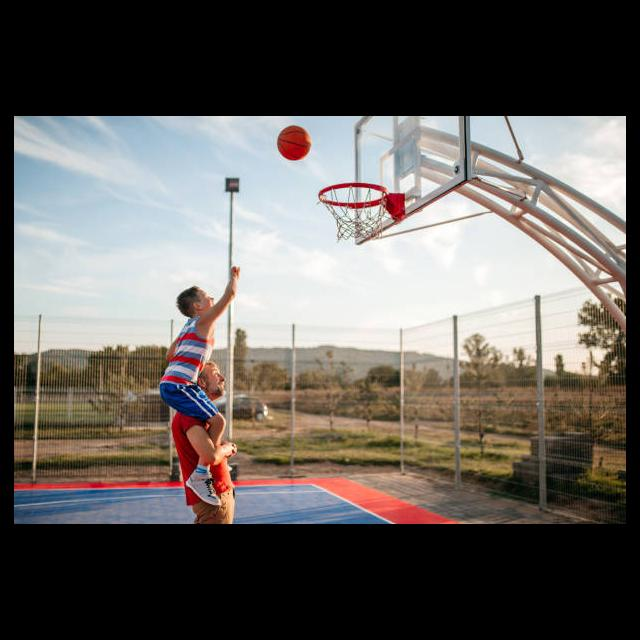basketball: (276, 122, 311, 161)
hoop: (320, 183, 387, 245)
